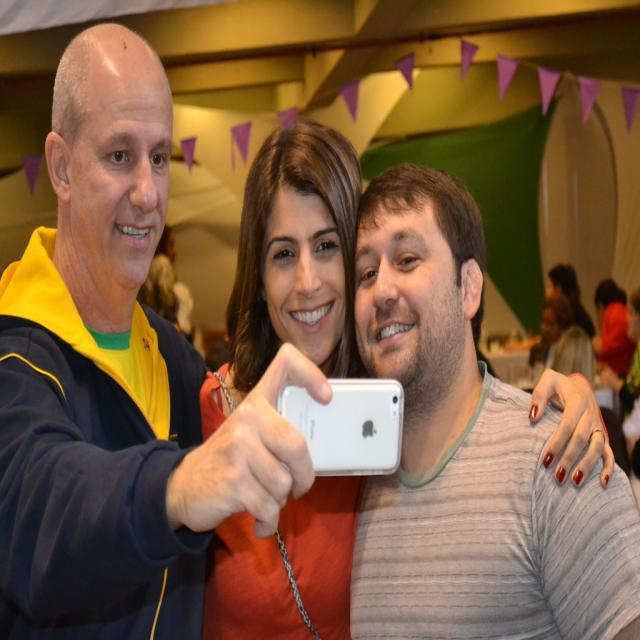phone: (278, 378, 408, 480)
